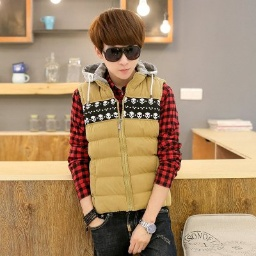face: (87, 7, 145, 82)
